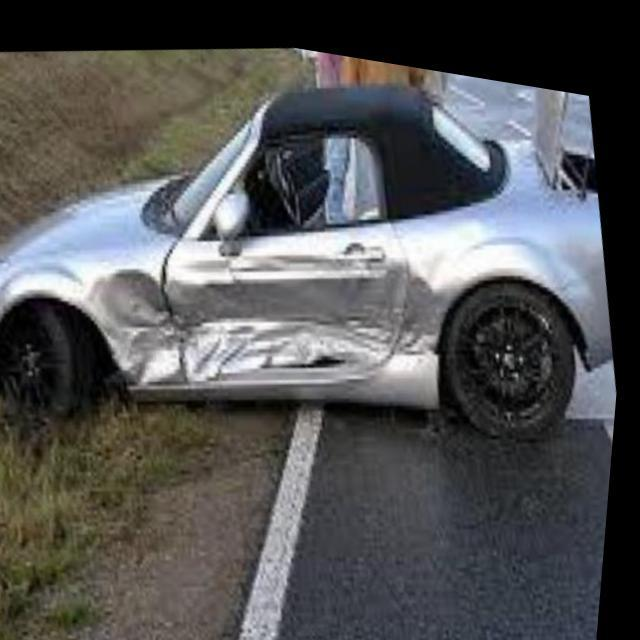dent: (82, 239, 441, 384)
